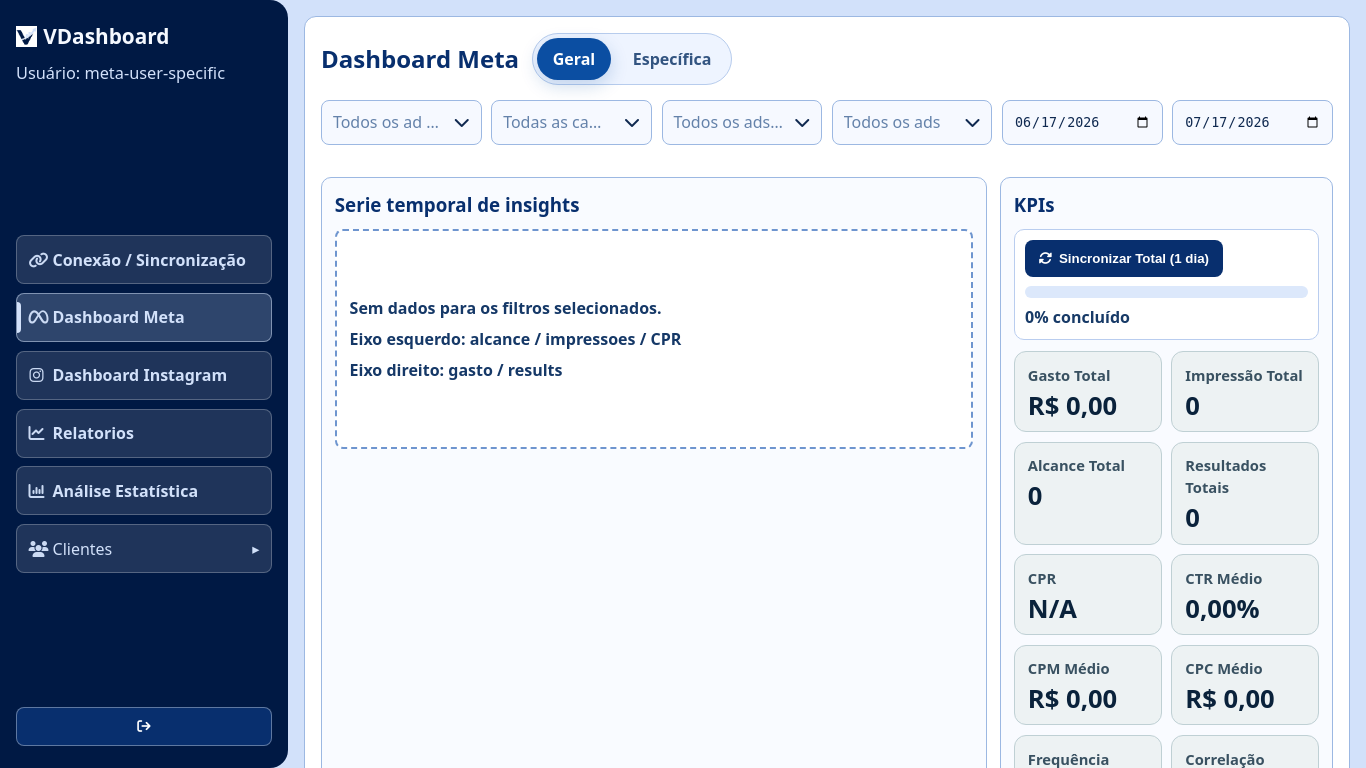
Test case: App frontend flows › hides ad filter and renders specific tab data in meta dashboard
Expected: the heading "Dashboard Meta" is shown, [321,41,519,77]
Click the tab "Específica". click: {"x": 672, "y": 59}
box: [617,38,727,80]
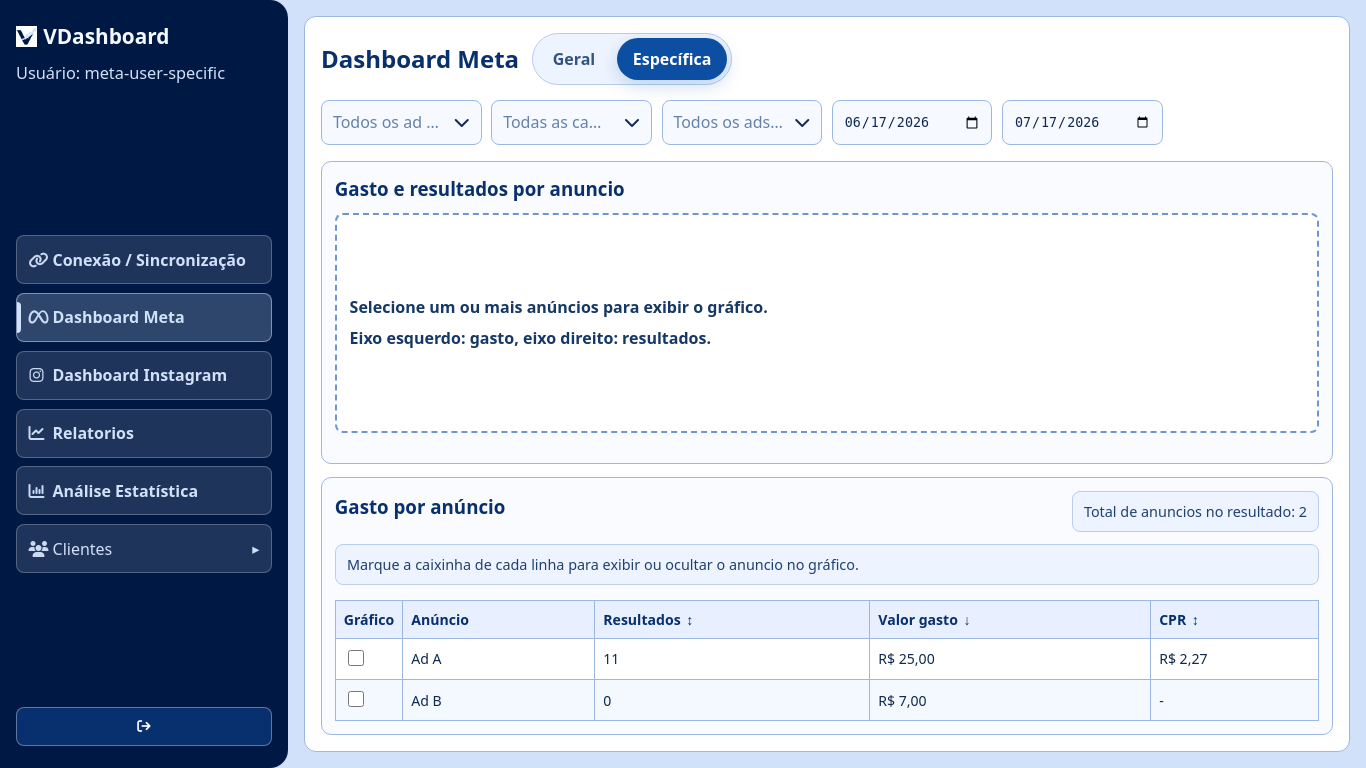
Result: the heading "Gasto e resultados por anuncio" is shown at [335,176,625,201]
Result: the heading "Gasto por anúncio" is shown at [335,493,505,521]
Result: the text "Marque a caixinha de cada linha para exibir ou ocultar o anuncio no gráfico." is shown at [335,544,1319,586]
